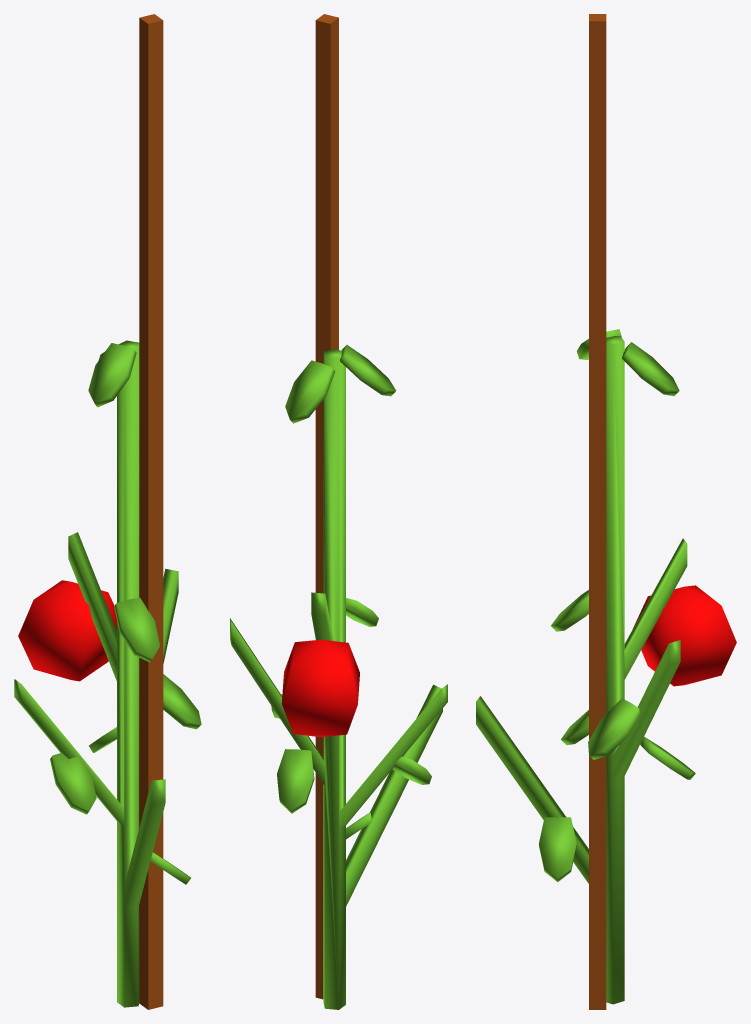
File: tomato-eat4.obj
3 renders of one model, left to right at view 1: azimuth 30°, elevation 25°; view 2: azimuth 150°, elevation 25°; view 3: azimuth 270°, elevation 25°, orthographic.
Visible parts, largest first — view 1: cube2, cylinder5, sphere6_copy10, cylinder12_copy16, cylinder12_copy14, cylinder12_copy13, cylinder12_copy15, cylinder12; view 2: cylinder5, cube2, sphere6_copy10, cylinder12_copy14, cylinder12_copy17, cylinder12_copy13, cylinder12_copy16; view 3: cylinder5, cube2, sphere6_copy10, cylinder12, cylinder12_copy15, cylinder12_copy14, cylinder12_copy16, cylinder12_copy17.
Boxes of the visible parts, box(x1,y1,x2,y2) form: cube2: box(139, 14, 163, 1009); cylinder5: box(14, 340, 178, 1007); sphere6_copy10: box(18, 580, 116, 681); cylinder12_copy16: box(114, 597, 159, 662); cylinder12_copy14: box(88, 342, 137, 407); cylinder12_copy13: box(50, 752, 96, 814); cylinder12_copy15: box(163, 674, 201, 729); cylinder12: box(149, 852, 190, 884); cylinder5: box(230, 348, 447, 1009); cube2: box(315, 14, 338, 999); sphere6_copy10: box(282, 639, 359, 737); cylinder12_copy14: box(285, 345, 396, 423); cylinder12_copy17: box(277, 749, 314, 813); cylinder12_copy13: box(392, 756, 431, 784); cylinder12_copy16: box(345, 598, 378, 626); cylinder5: box(476, 336, 687, 1004); cube2: box(589, 14, 606, 1009); sphere6_copy10: box(633, 585, 736, 686); cylinder12: box(539, 817, 576, 882); cylinder12_copy15: box(588, 698, 639, 759); cylinder12_copy14: box(577, 329, 679, 396); cylinder12_copy16: box(551, 590, 588, 631); cylinder12_copy17: box(640, 736, 695, 779).
Size of the model in its own units: 1.2 by 6 by 1.43.
